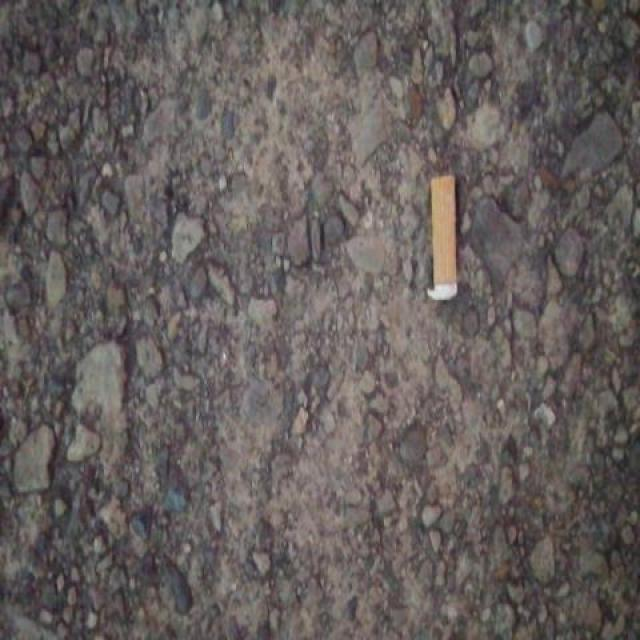non-organic waste: (421, 172, 464, 308)
